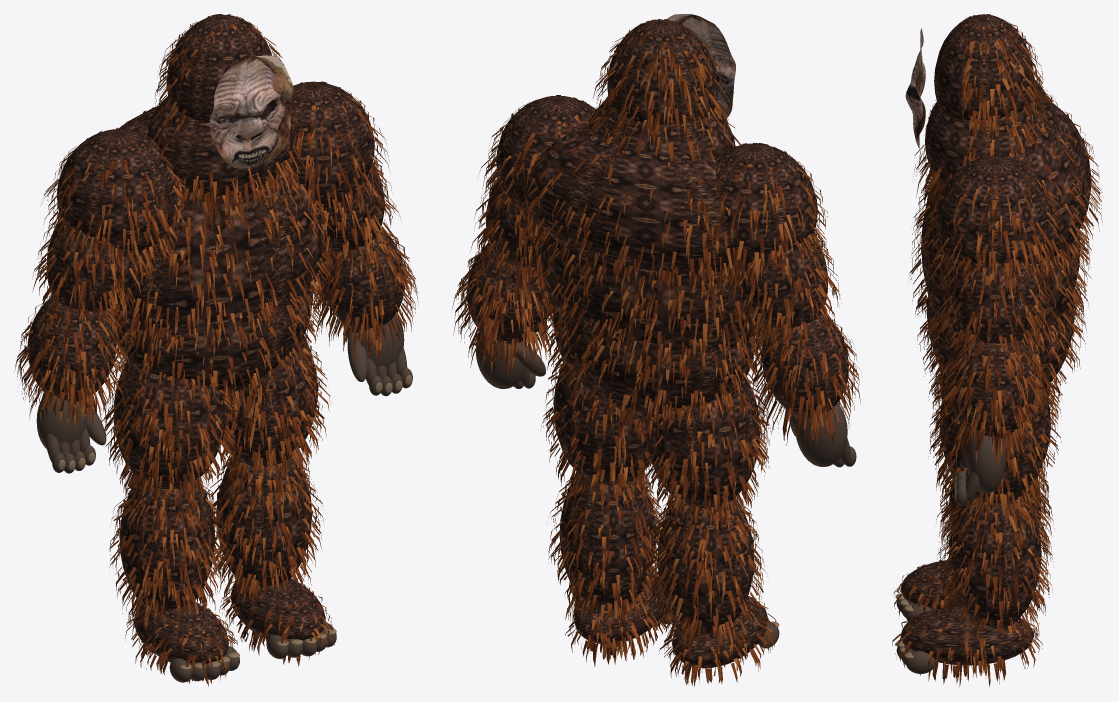
File: yowie.gltf
3 views of the same model, side by side, from view 1: azimuth 30°, elevation 25°; view 2: azimuth 150°, elevation 25°; view 3: azimuth 270°, elevation 25° (orthographic).
Visible parts, largest first — view 1: BellbrookYowieBody; view 2: BellbrookYowieBody; view 3: BellbrookYowieBody.
Boxes of the visible parts, x1,y1,x2,y2 form: BellbrookYowieBody: [14, 14, 418, 686]; BellbrookYowieBody: [452, 14, 861, 686]; BellbrookYowieBody: [892, 14, 1102, 686].
Bounding box in the file's own units: 1.22 × 1.9 × 0.5717.
12 materials, 2 textured.
